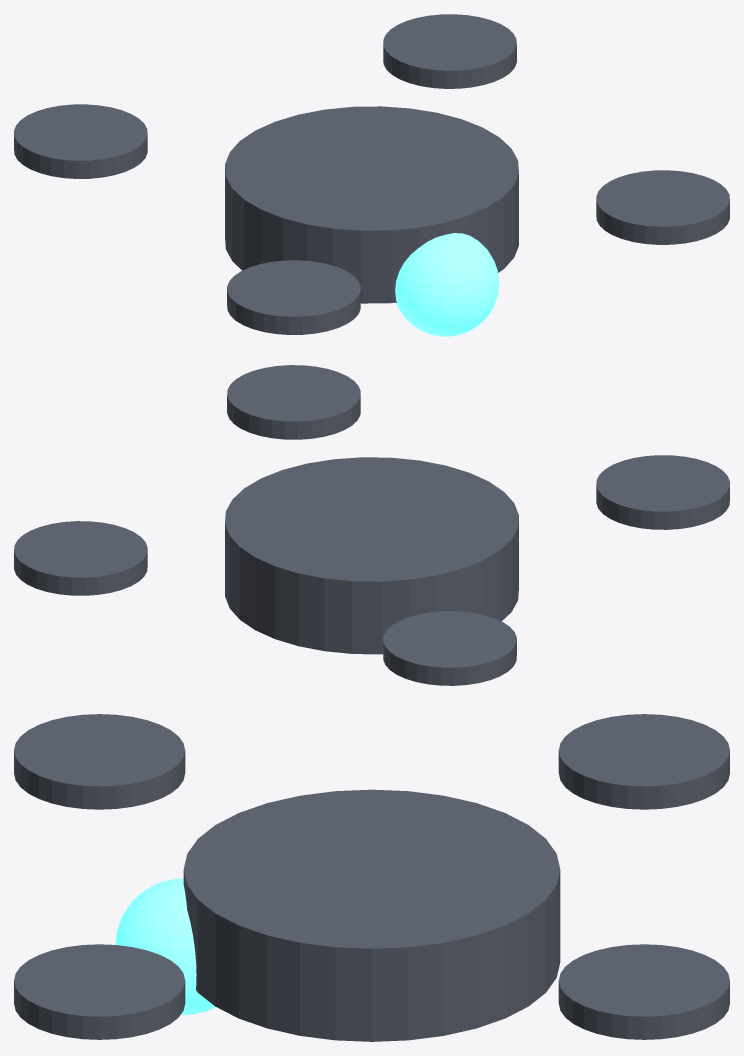
The model's file is drone_recon.glb.
3 renders of one model, top to bottom at view 1: azimuth 30°, elevation 25°; view 2: azimuth 150°, elevation 25°; view 3: azimuth 270°, elevation 25°, orthographic. The views are drawn at different scales.
Visible parts, largest first — view 1: Cylinder, Cylinder.003, Cylinder.001, Cylinder.004, Cylinder.002, Sphere; view 2: Cylinder, Cylinder.002, Cylinder.004, Cylinder.001, Cylinder.003; view 3: Cylinder, Cylinder.002, Cylinder.003, Cylinder.001, Cylinder.004, Sphere.
Boxes of the visible parts, left/top/right/bottom form: Cylinder: left=225, top=106, right=518, bottom=303; Cylinder.003: left=227, top=260, right=360, bottom=334; Cylinder.001: left=383, top=14, right=516, bottom=88; Cylinder.004: left=596, top=170, right=729, bottom=244; Cylinder.002: left=14, top=104, right=147, bottom=178; Sphere: left=395, top=233, right=498, bottom=336; Cylinder: left=225, top=457, right=518, bottom=654; Cylinder.002: left=383, top=611, right=516, bottom=685; Cylinder.004: left=227, top=365, right=360, bottom=439; Cylinder.001: left=14, top=521, right=147, bottom=595; Cylinder.003: left=596, top=455, right=729, bottom=529; Cylinder: left=183, top=789, right=560, bottom=1041; Cylinder.002: left=558, top=714, right=729, bottom=809; Cylinder.003: left=14, top=714, right=185, bottom=809; Cylinder.001: left=558, top=944, right=729, bottom=1039; Cylinder.004: left=14, top=944, right=185, bottom=1039; Sphere: left=115, top=878, right=215, bottom=1015.
Bounding box in the file's own units: 0.8364 × 0.185 × 0.8364.
